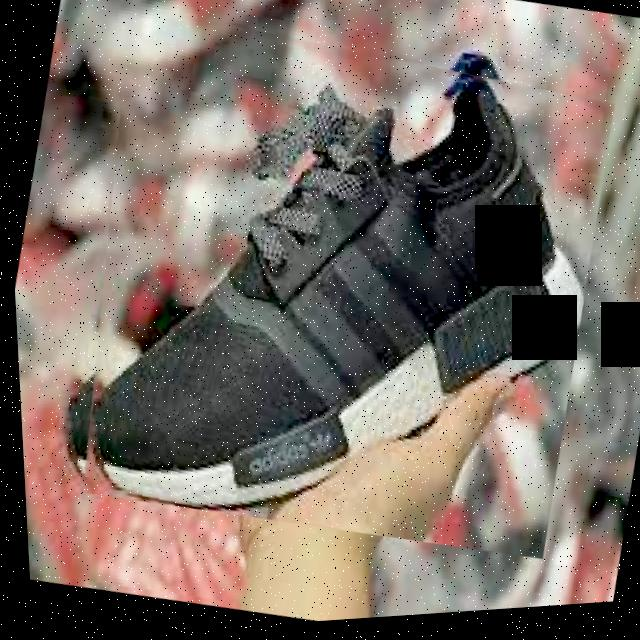shoe: (29, 0, 637, 591)
